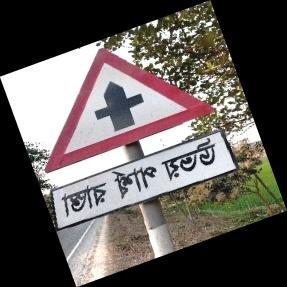Crossroad: (41, 48, 220, 266)
